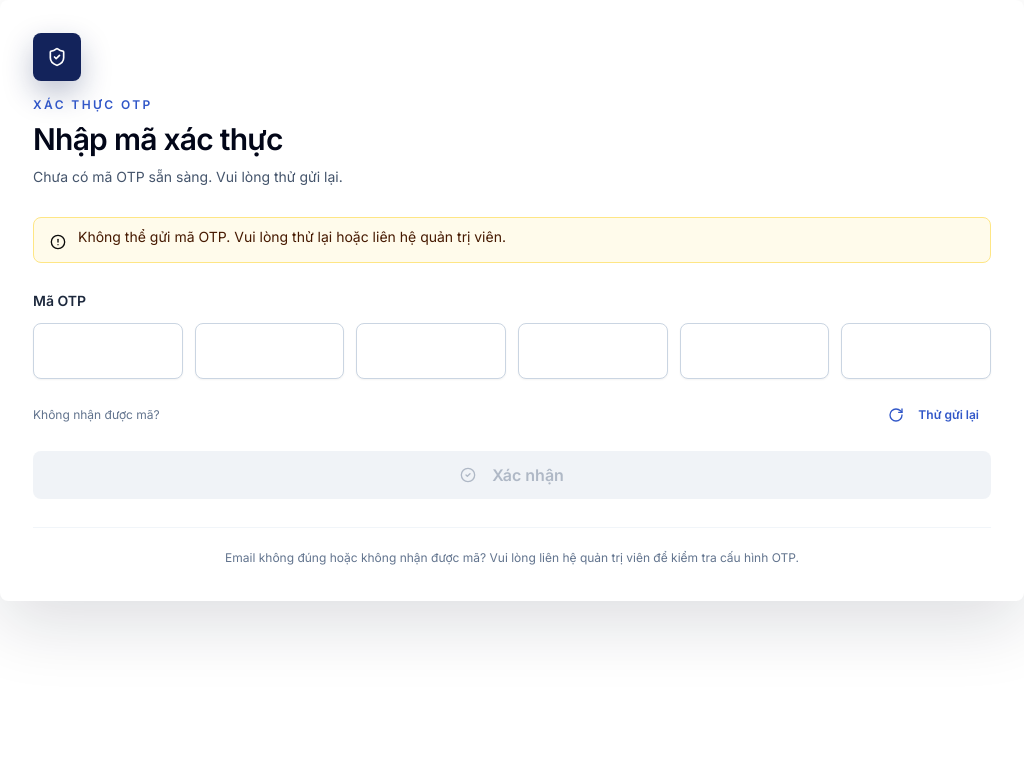
Test: ManagerOtpVerificationForm › lets the manager retry when the initial OTP challenge request fails
This screenshot has width=1024, height=768.
Expected: the text "Không thể gửi mã OTP" is shown, 78,228 -> 506,245
What coordinates should you click on to do the following:
click the button "Thử gửi lại"
I would click on:
 (934, 415)
Its box is 876,399 -> 991,431.
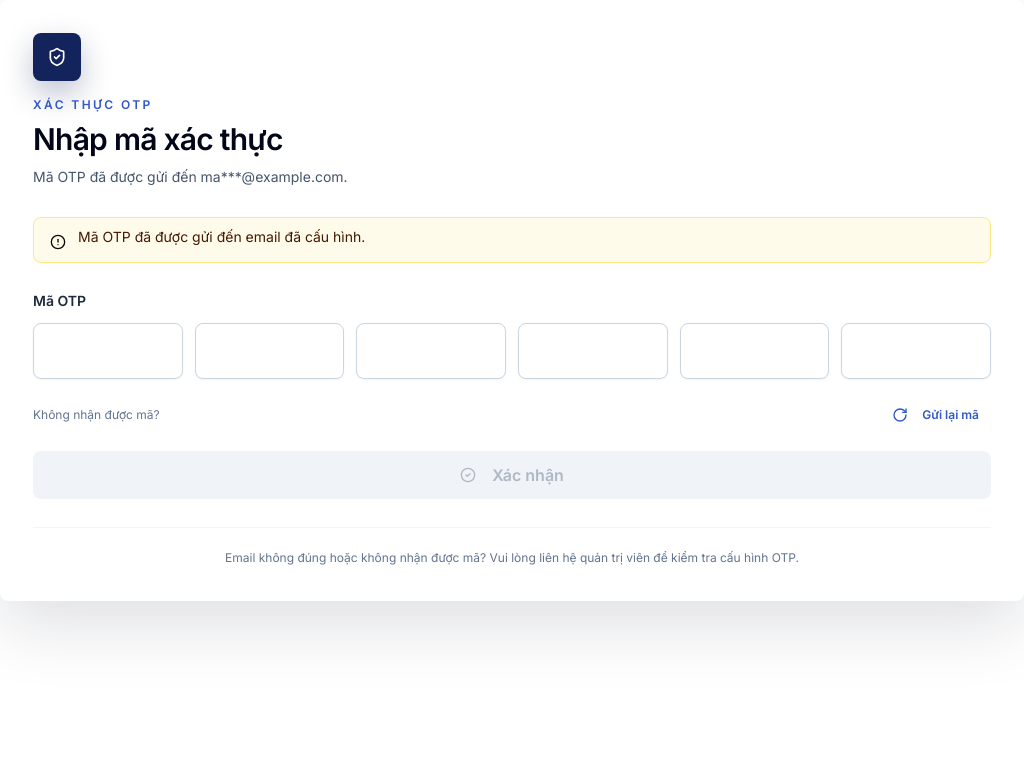
Expected: the text "Mã OTP đã được gửi đến ma***@example.com." is shown, 33,168 -> 348,185
